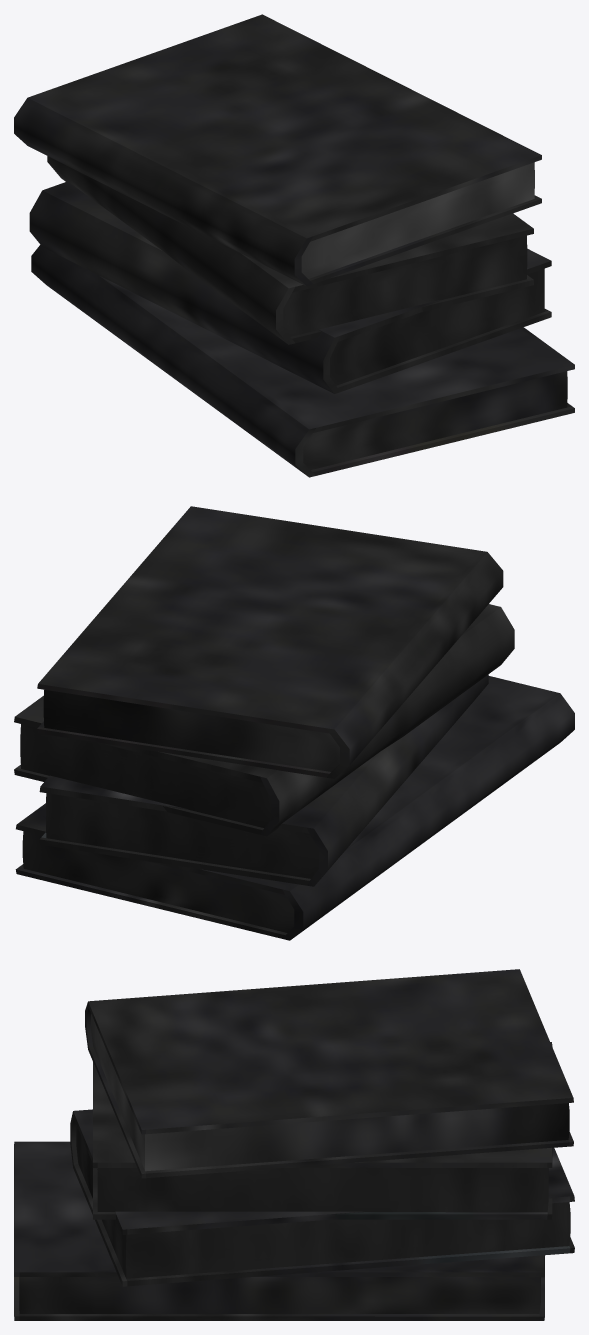
File: SM_Books_05.fbx
3 views of the same model, one above another, from view 1: azimuth 30°, elevation 25°; view 2: azimuth 150°, elevation 25°; view 3: azimuth 270°, elevation 25° (orthographic). The views are drawn at different scales.
Visible parts, largest first — view 1: SM_Books_05; view 2: SM_Books_05; view 3: SM_Books_05.
Boxes of the visible parts, x1=… form: SM_Books_05: x1=14, y1=14, x2=574, y2=477; SM_Books_05: x1=14, y1=506, x2=574, y2=940; SM_Books_05: x1=14, y1=969, x2=574, y2=1320.
Size of the model in its own units: 20.52 by 28.97 by 11.72.
Materials: 1 (1 with a texture image).
